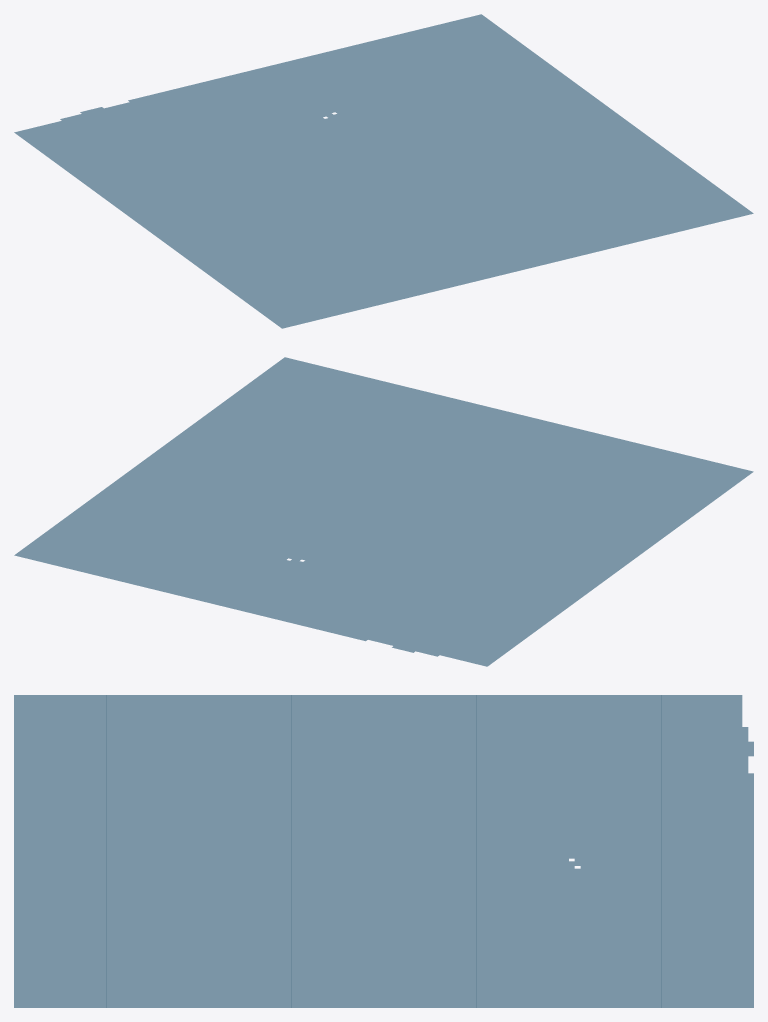
Rendered from chunk_6_9.glb.
The picture shows the model from 3 angles, top to bottom: view 1: azimuth 30°, elevation 25°; view 2: azimuth 150°, elevation 25°; view 3: azimuth 270°, elevation 25°; orthographic projection. The views are drawn at different scales.
Parts seen in each view (by area): view 1: Water_6_9; view 2: Water_6_9; view 3: Water_6_9.
Part boxes in pixels (<box>): Water_6_9: <box>14,14,753,328</box>; Water_6_9: <box>14,357,753,666</box>; Water_6_9: <box>14,695,753,1007</box>.
Bounding box in the file's own units: 2048 × 5.3e-05 × 2048.
